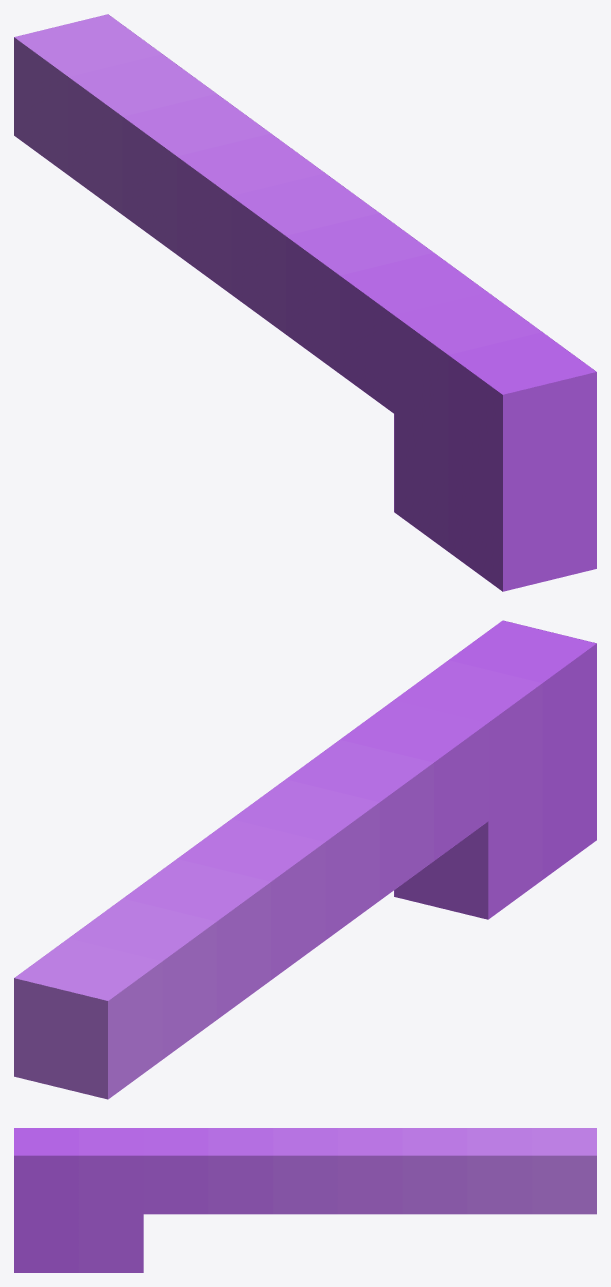
The model's file is VoidLordUpperTentacleFront.obj.
The picture shows the model from 3 angles, top to bottom: view 1: azimuth 30°, elevation 25°; view 2: azimuth 150°, elevation 25°; view 3: azimuth 270°, elevation 25°; orthographic projection. The views are drawn at different scales.
Parts seen in each view (by area): view 1: VoidLordUpperTentacleFront; view 2: VoidLordUpperTentacleFront; view 3: VoidLordUpperTentacleFront.
Part boxes in pixels (x1=…): VoidLordUpperTentacleFront: x1=14, y1=14, x2=596, y2=591; VoidLordUpperTentacleFront: x1=14, y1=620, x2=596, y2=1099; VoidLordUpperTentacleFront: x1=14, y1=1128, x2=596, y2=1272.
Size of the model in its own units: 1 by 2 by 9.
1 material, 1 textured.
